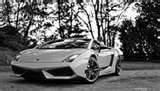car: (11, 38, 125, 84)
